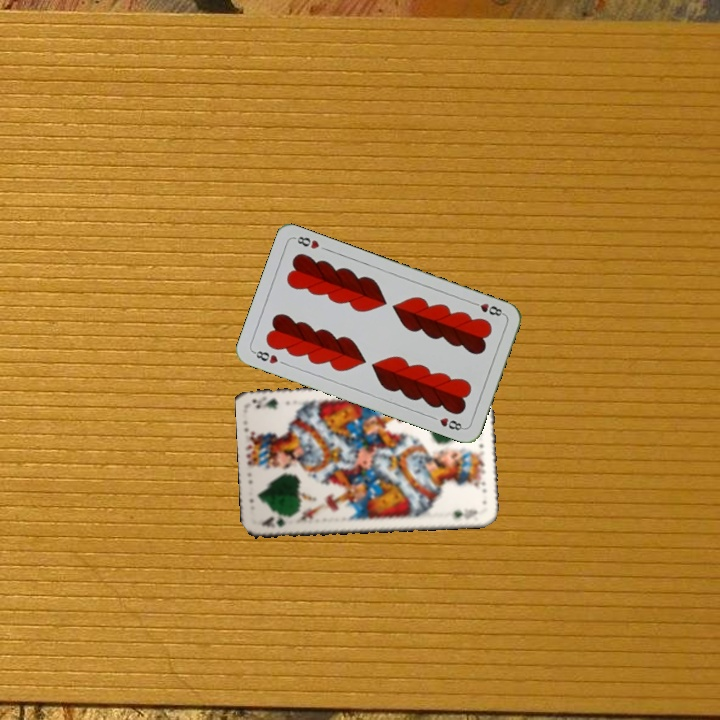GK: (255, 512, 296, 530)
H8: (468, 298, 507, 319), (249, 347, 281, 366)
